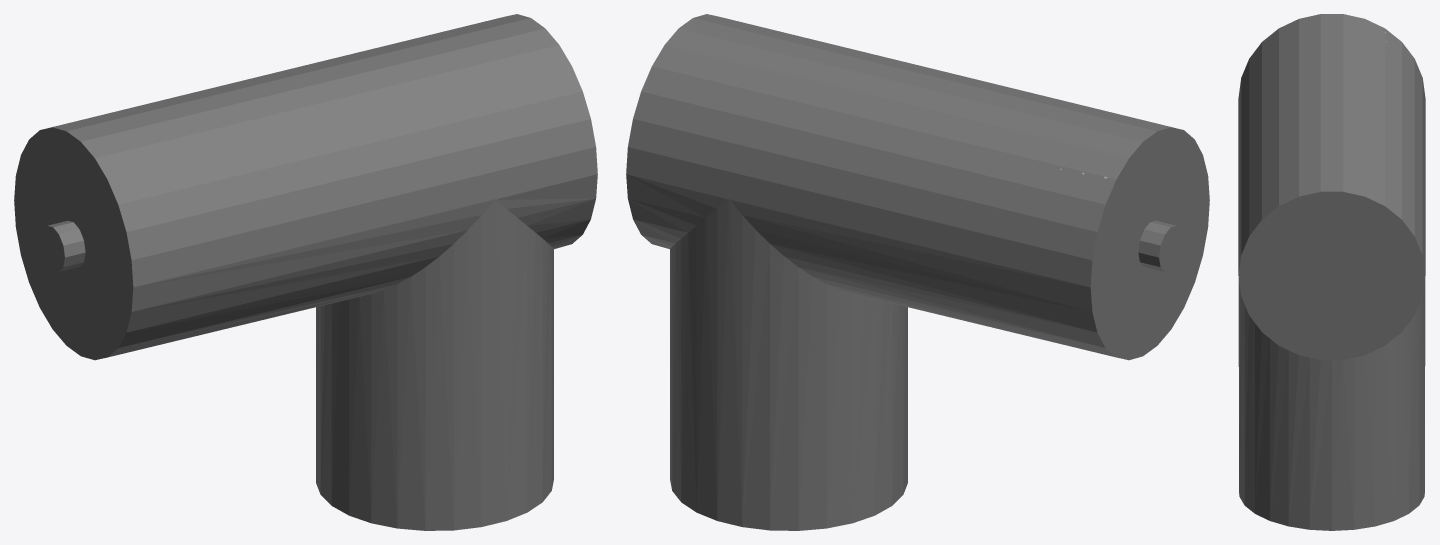
The model's file is right_axel.dae.
3 views of the same model, side by side, from view 1: azimuth 30°, elevation 25°; view 2: azimuth 150°, elevation 25°; view 3: azimuth 270°, elevation 25° (orthographic). The views are drawn at different scales.
Parts seen in each view (by area): view 1: right_axel; view 2: right_axel; view 3: right_axel.
Part boxes in pixels (left/top/right/bottom): right_axel: left=14, top=14, right=597, bottom=530; right_axel: left=626, top=14, right=1209, bottom=530; right_axel: left=1238, top=14, right=1425, bottom=530.
Bounding box in the file's own units: 0.1194 × 0.0508 × 0.1017.
1 material, 1 textured.
